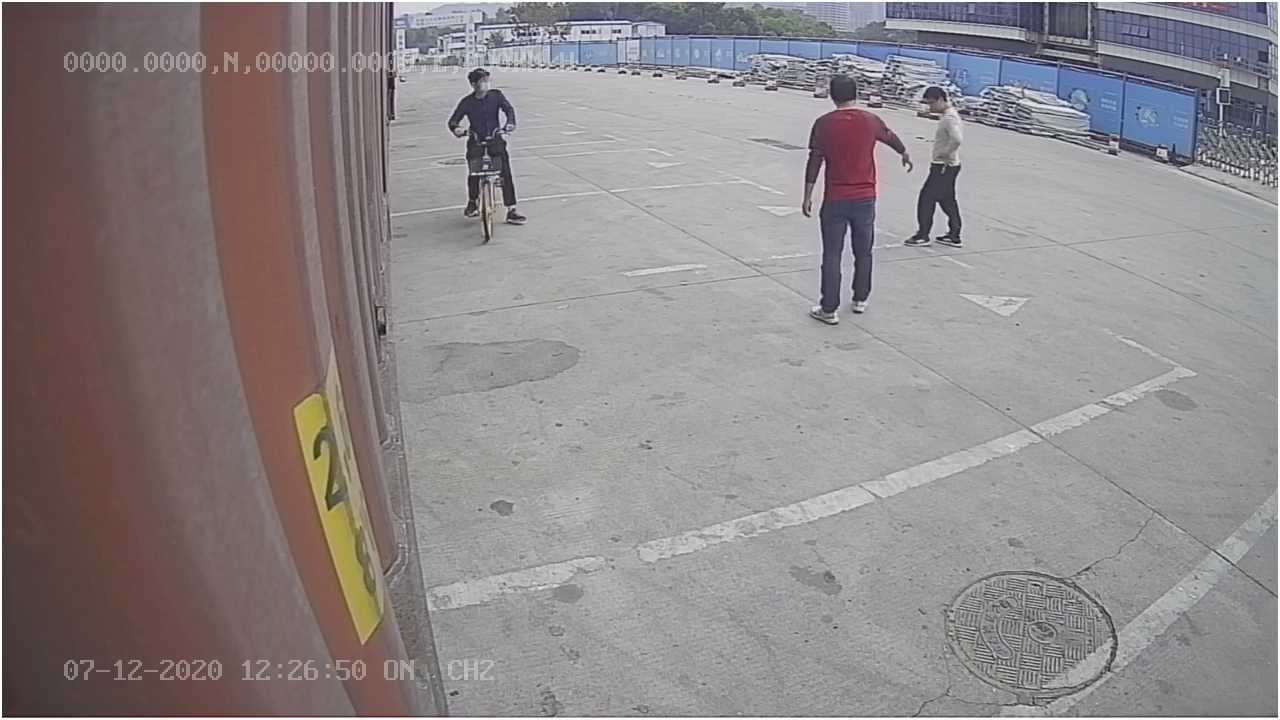person: (798, 71, 912, 332)
